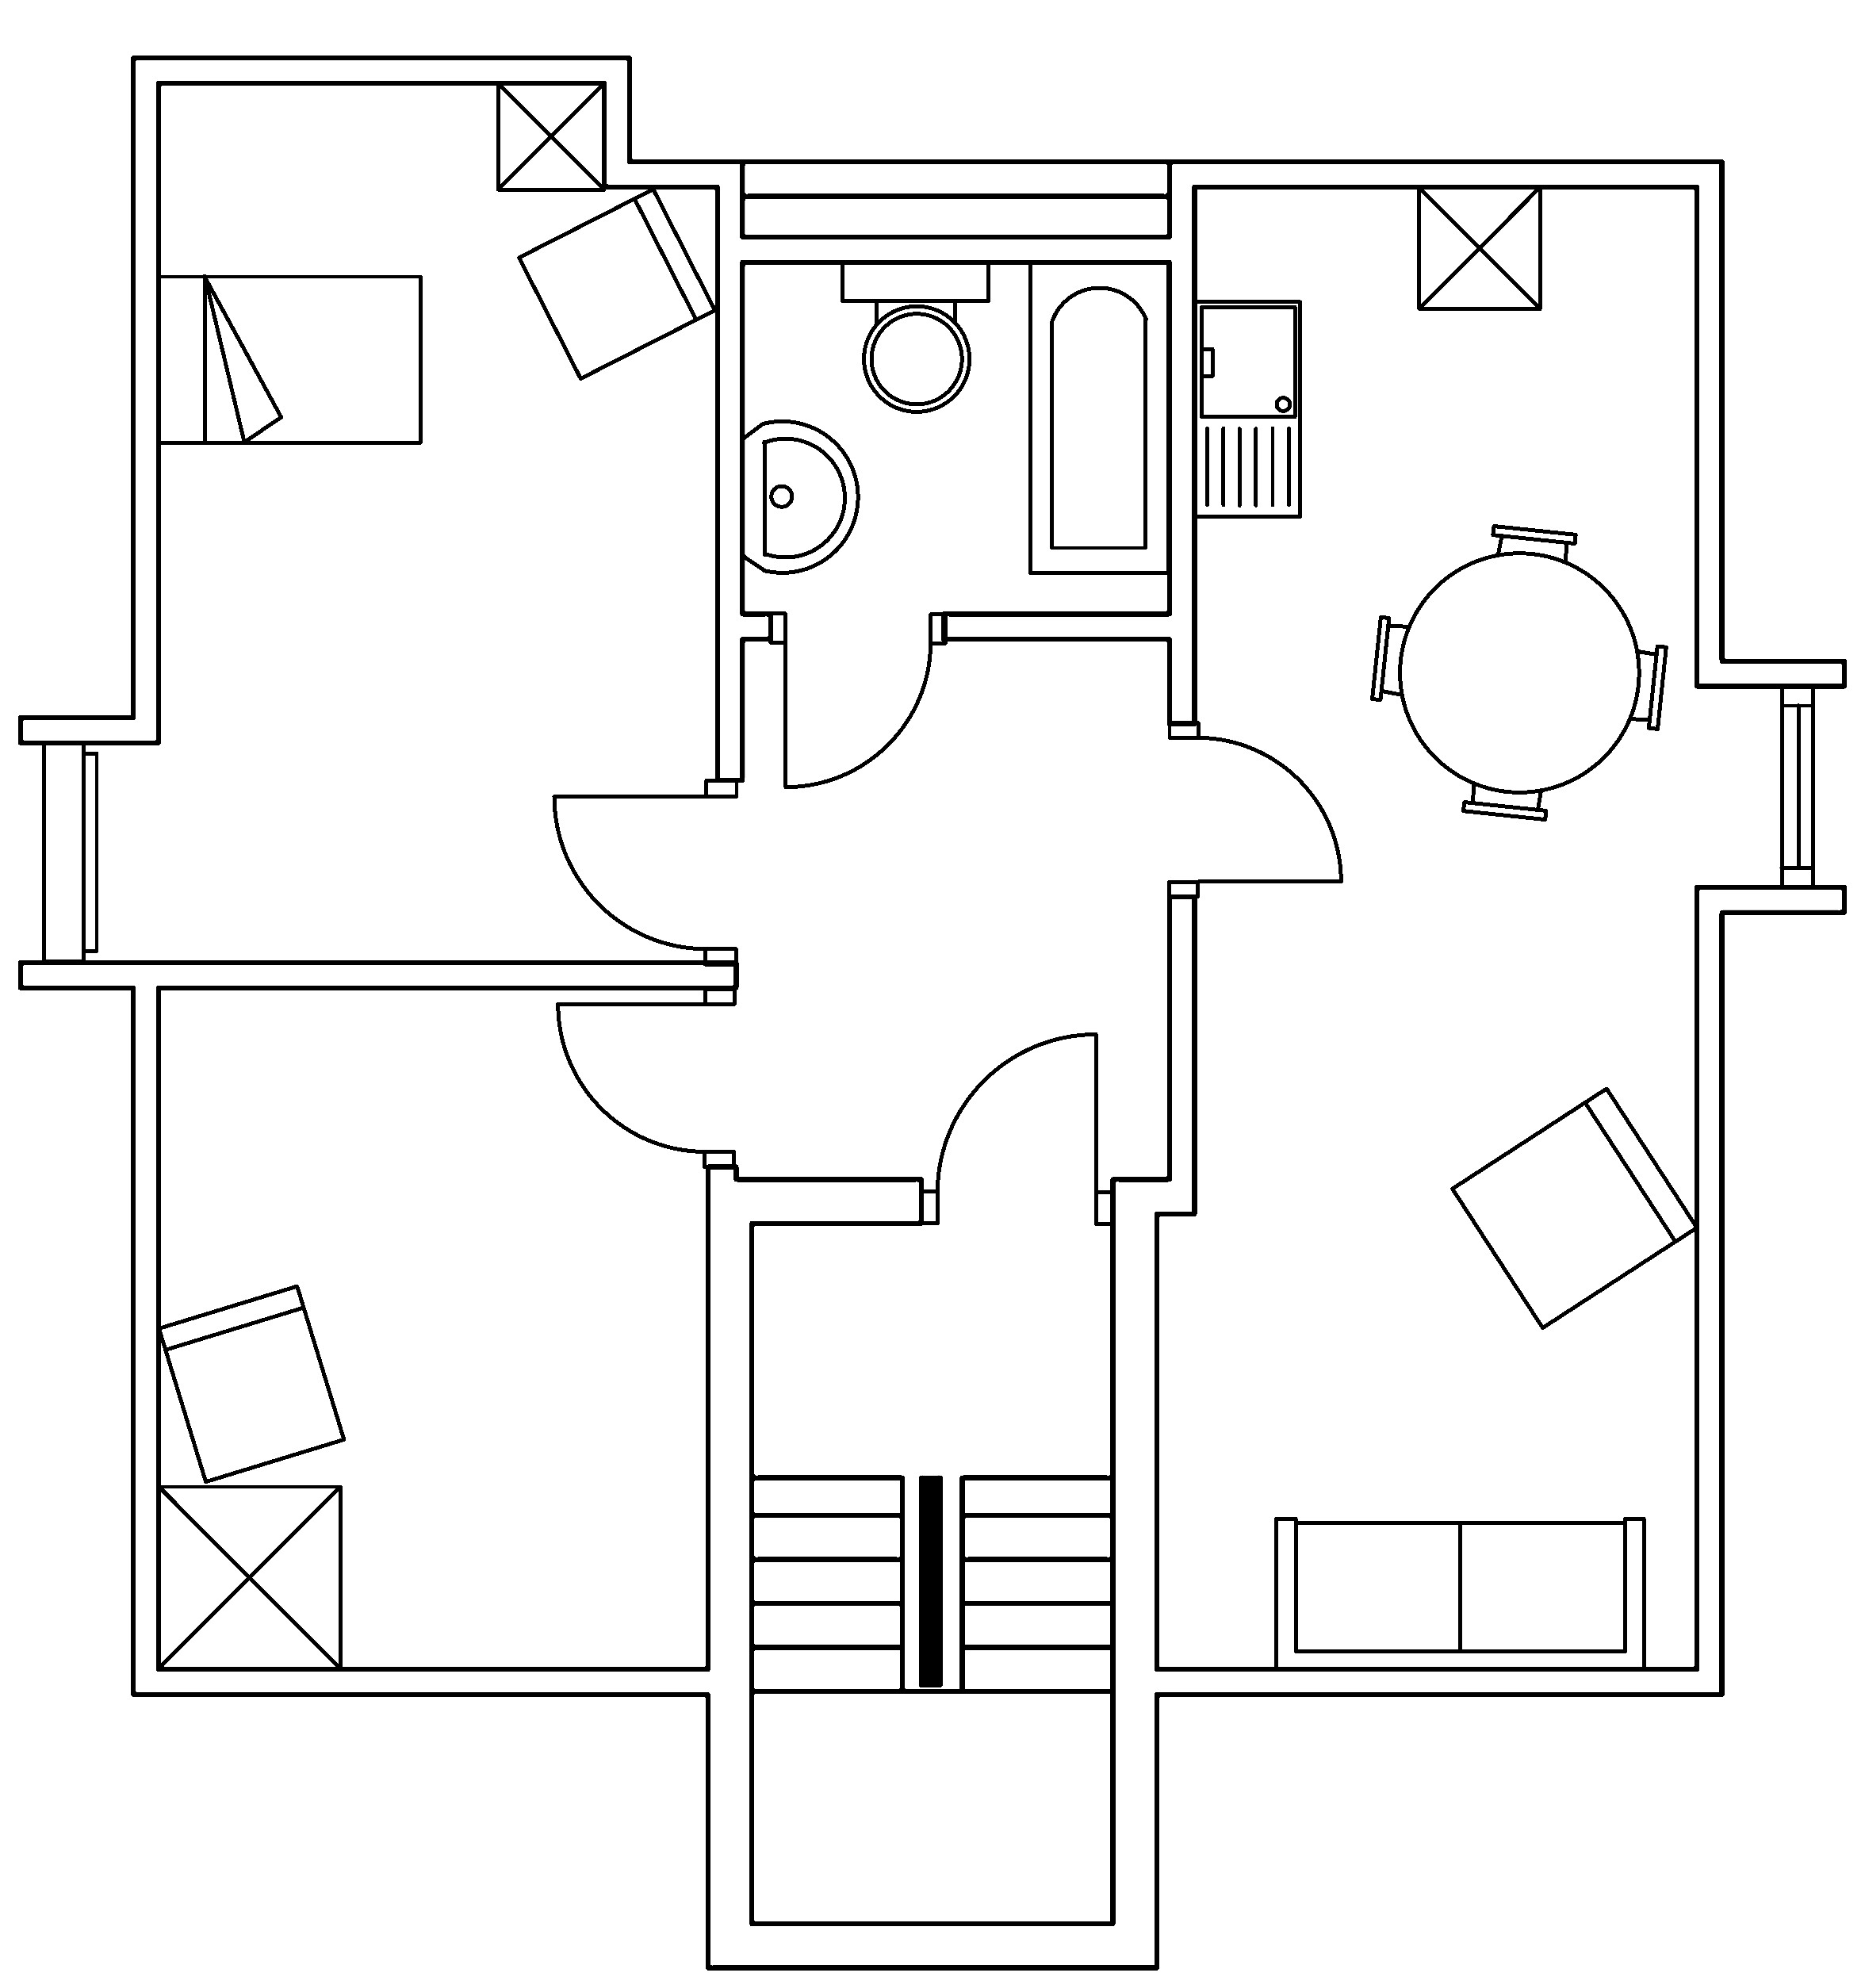bed: (154, 272, 422, 445)
coffee_table: (154, 1481, 342, 1671), (1416, 182, 1542, 310), (494, 79, 606, 191)
large_sink: (840, 258, 990, 412)
large_sofa: (1273, 1515, 1646, 1672)
round_table: (1369, 522, 1669, 822)
sink: (1192, 298, 1302, 519)
small_sink: (740, 419, 859, 573)
small_sofa: (1448, 1085, 1698, 1331), (515, 186, 717, 380), (156, 1282, 347, 1483)
tub: (1027, 258, 1171, 575)
